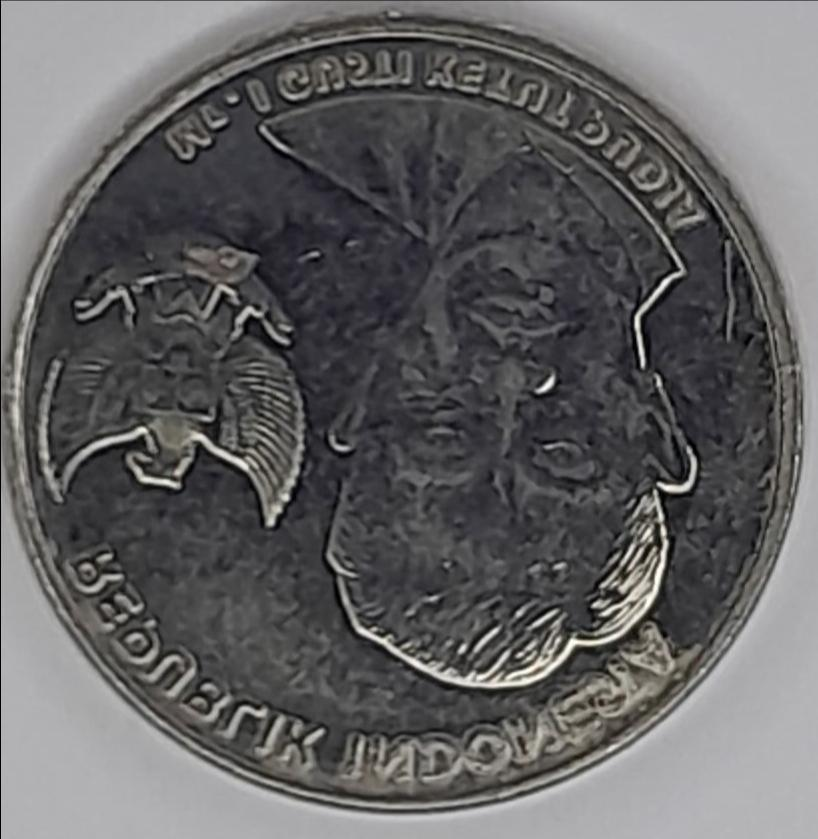coin_1000_e2016: (14, 17, 807, 839)
